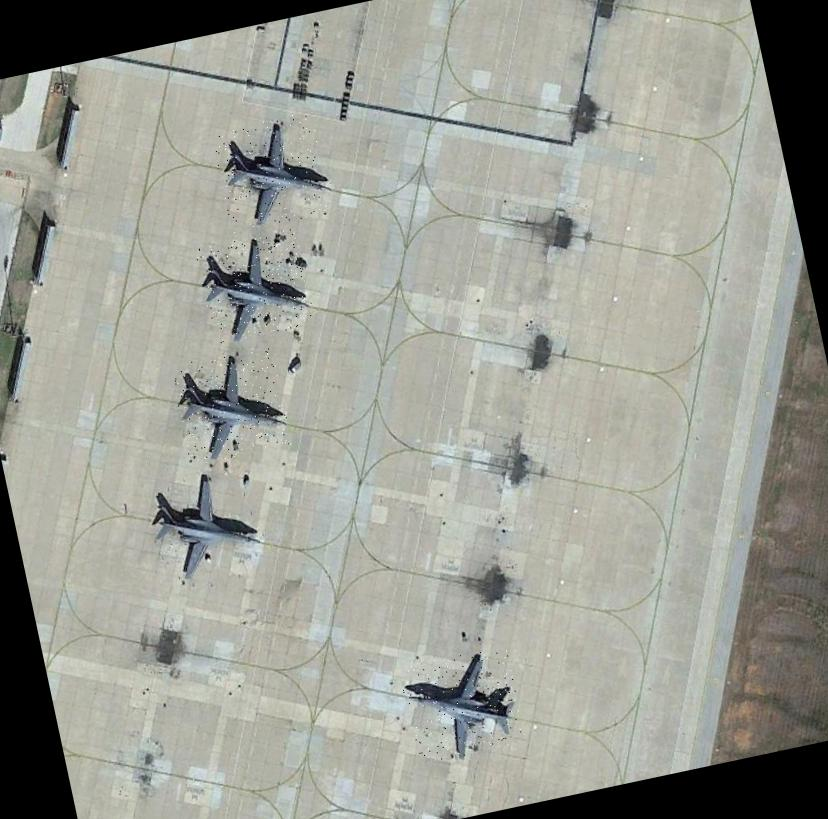A10: (398, 643, 527, 765), (170, 344, 294, 466), (211, 111, 333, 233), (195, 228, 316, 345), (141, 466, 263, 582)
